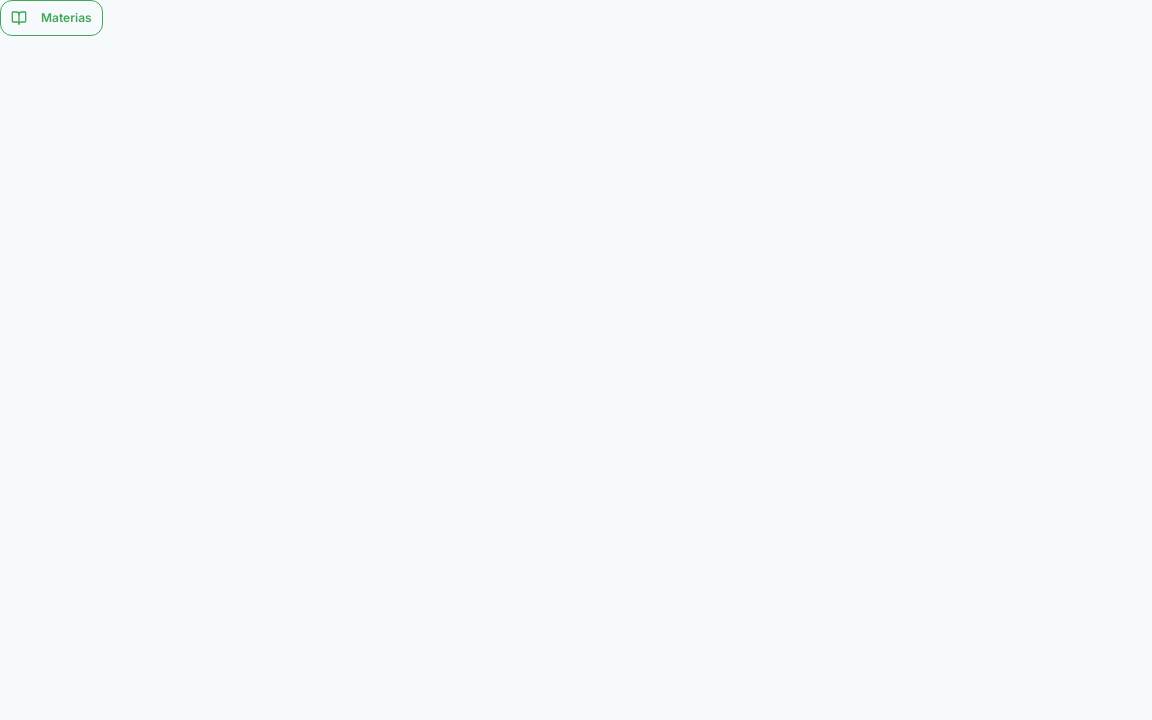
Test: ManageSubjectsDialog – Pruebas Unitarias Gestión de Materias › SUB04 – Lista cursos existentes
The image size is (1152, 720).
Click the button "Materias": (51, 18) x1=0 y1=0 x2=103 y2=36
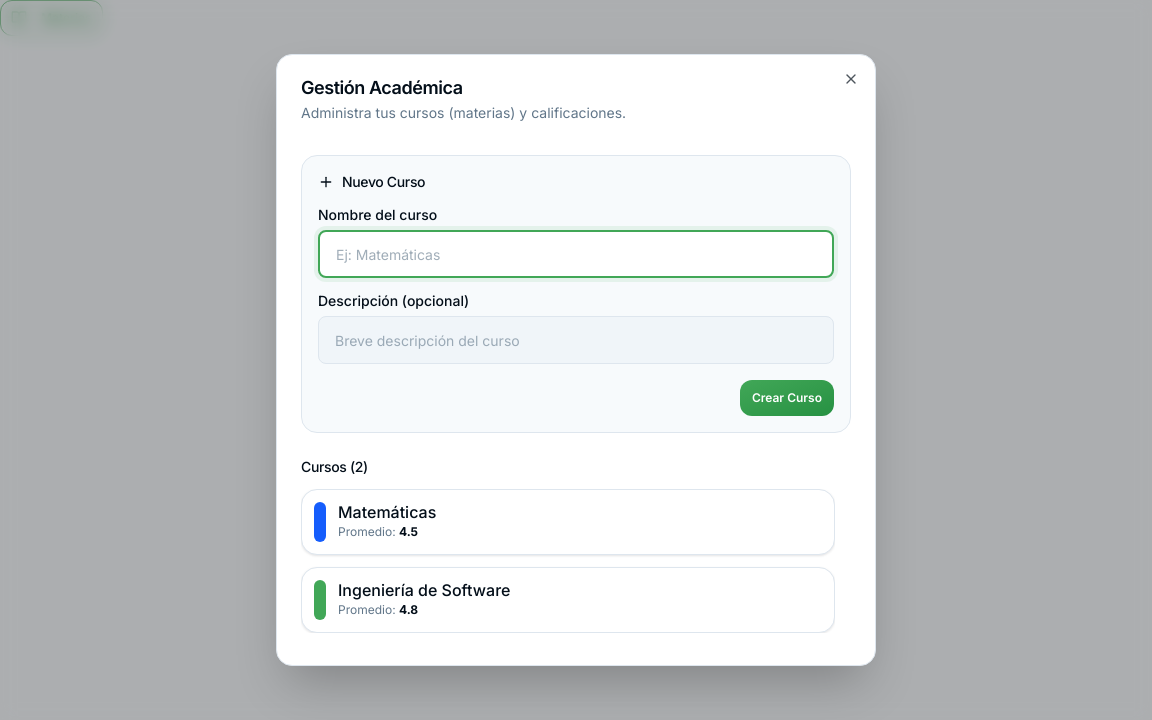
Now the text "Matemáticas" is shown, box x1=338 y1=504 x2=436 y2=520
Now the text "Ingeniería de Software" is shown, box x1=338 y1=582 x2=510 y2=598
Now the heading "Cursos (2)" is shown, box x1=301 y1=458 x2=368 y2=475
